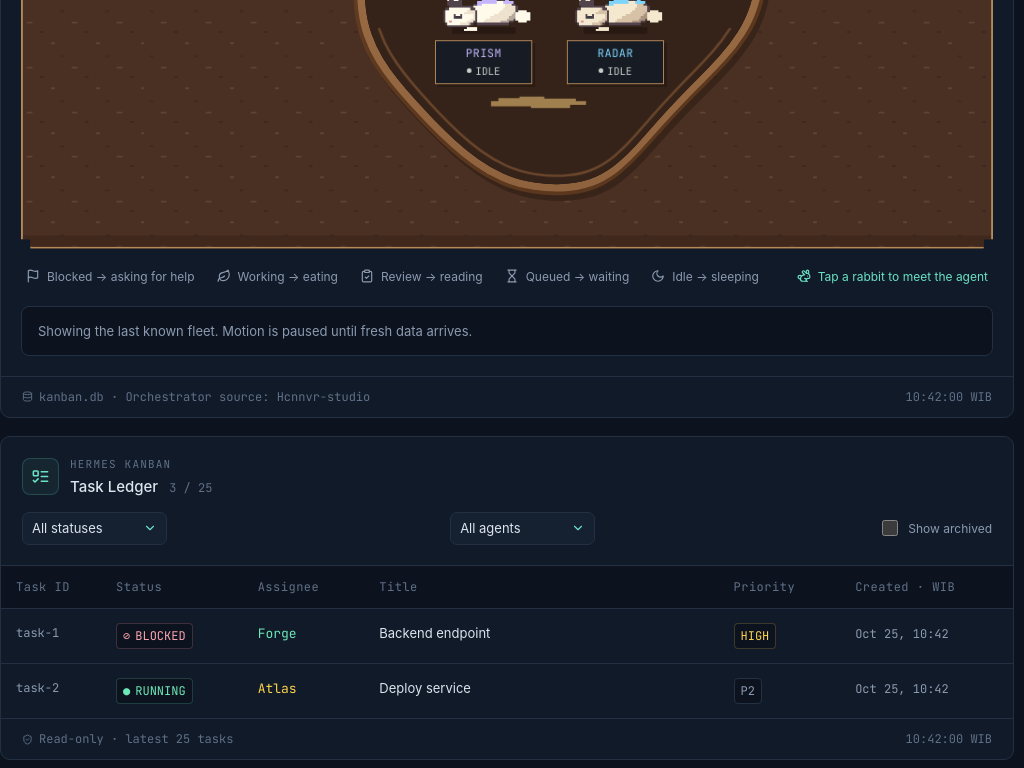
hides archived work by default and requests it explicitly when the operator enables the toggle
The width and height of the screenshot is (1024, 768).
(page scrolled)
Expected: the text "Archived release notes" is not shown
Click the checkbox labelled "Show archived".
click(890, 528)  # box [882, 520, 898, 536]
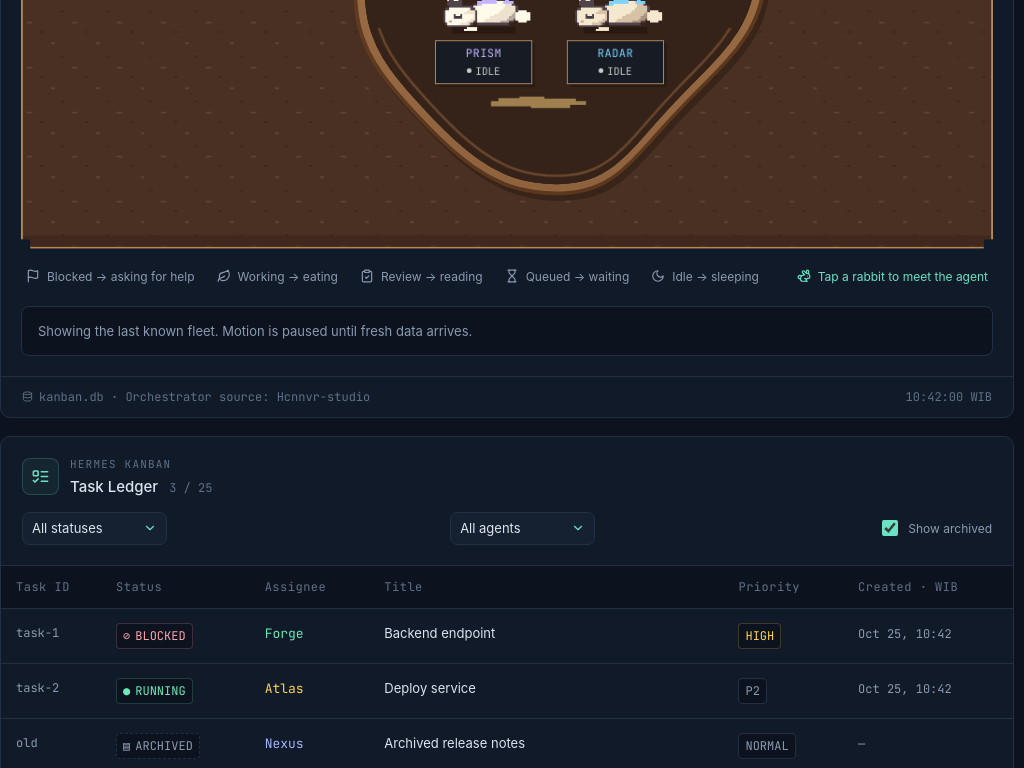
Now the text "Archived release notes" is shown, box [369, 719, 724, 767]
Click the dropdown named "Filter task status".
click(94, 528)  # box [22, 512, 167, 545]
(page scrolled)
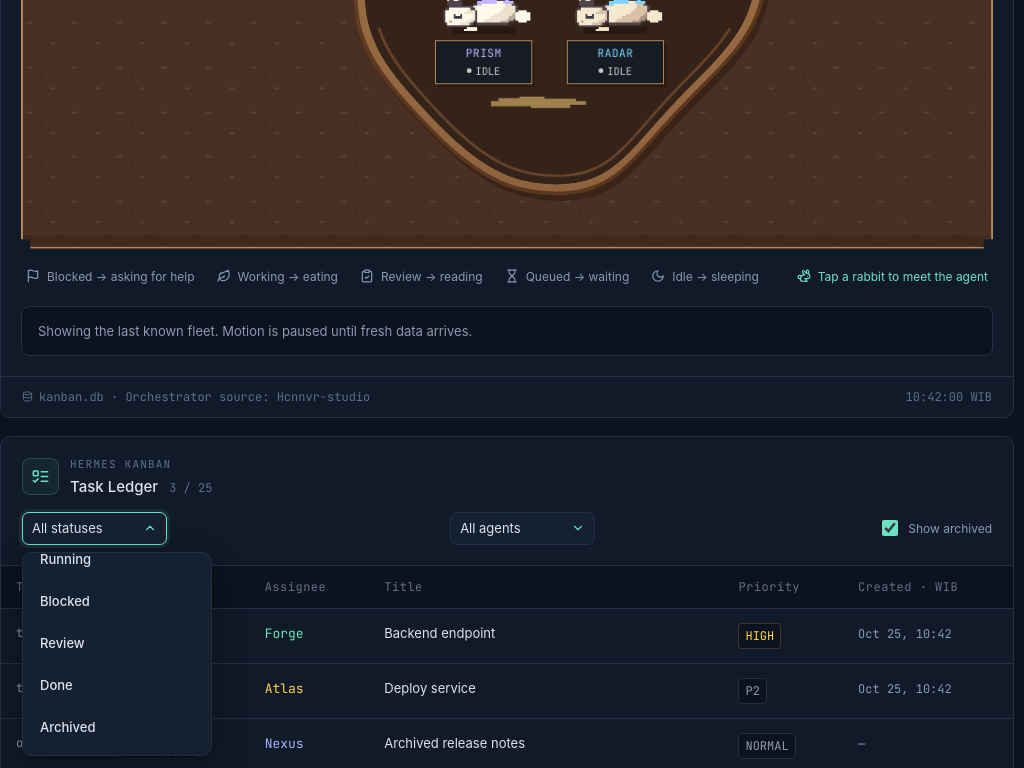
Click the option "Archived".
click(114, 728)  # box [29, 707, 198, 749]
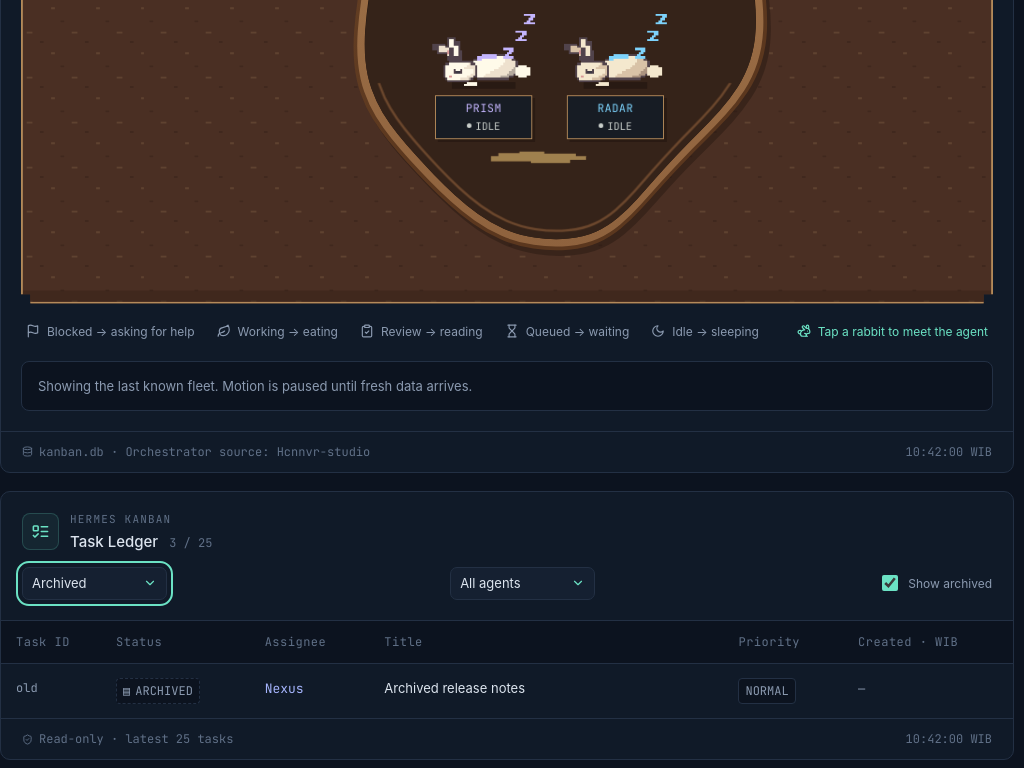
Now the text "Backend endpoint" is gone
Click the checkbox labelled "Show archived".
click(890, 584)  # box [882, 576, 898, 592]
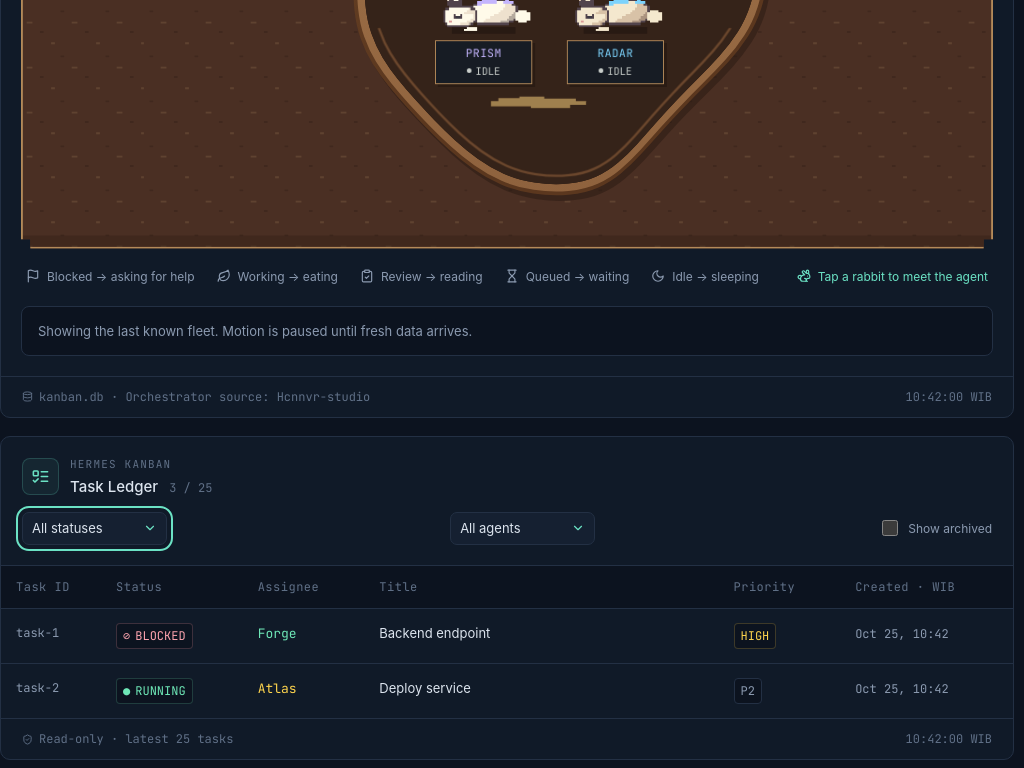
Now the text "Archived release notes" is gone
Now the dropdown named "Filter task status" reads "All statuses", box [22, 512, 167, 545]
